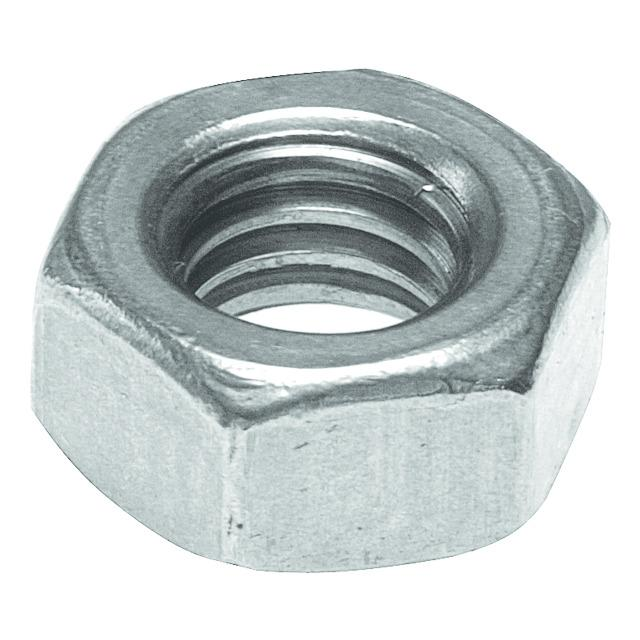Dry Waste: (8, 32, 620, 605)
